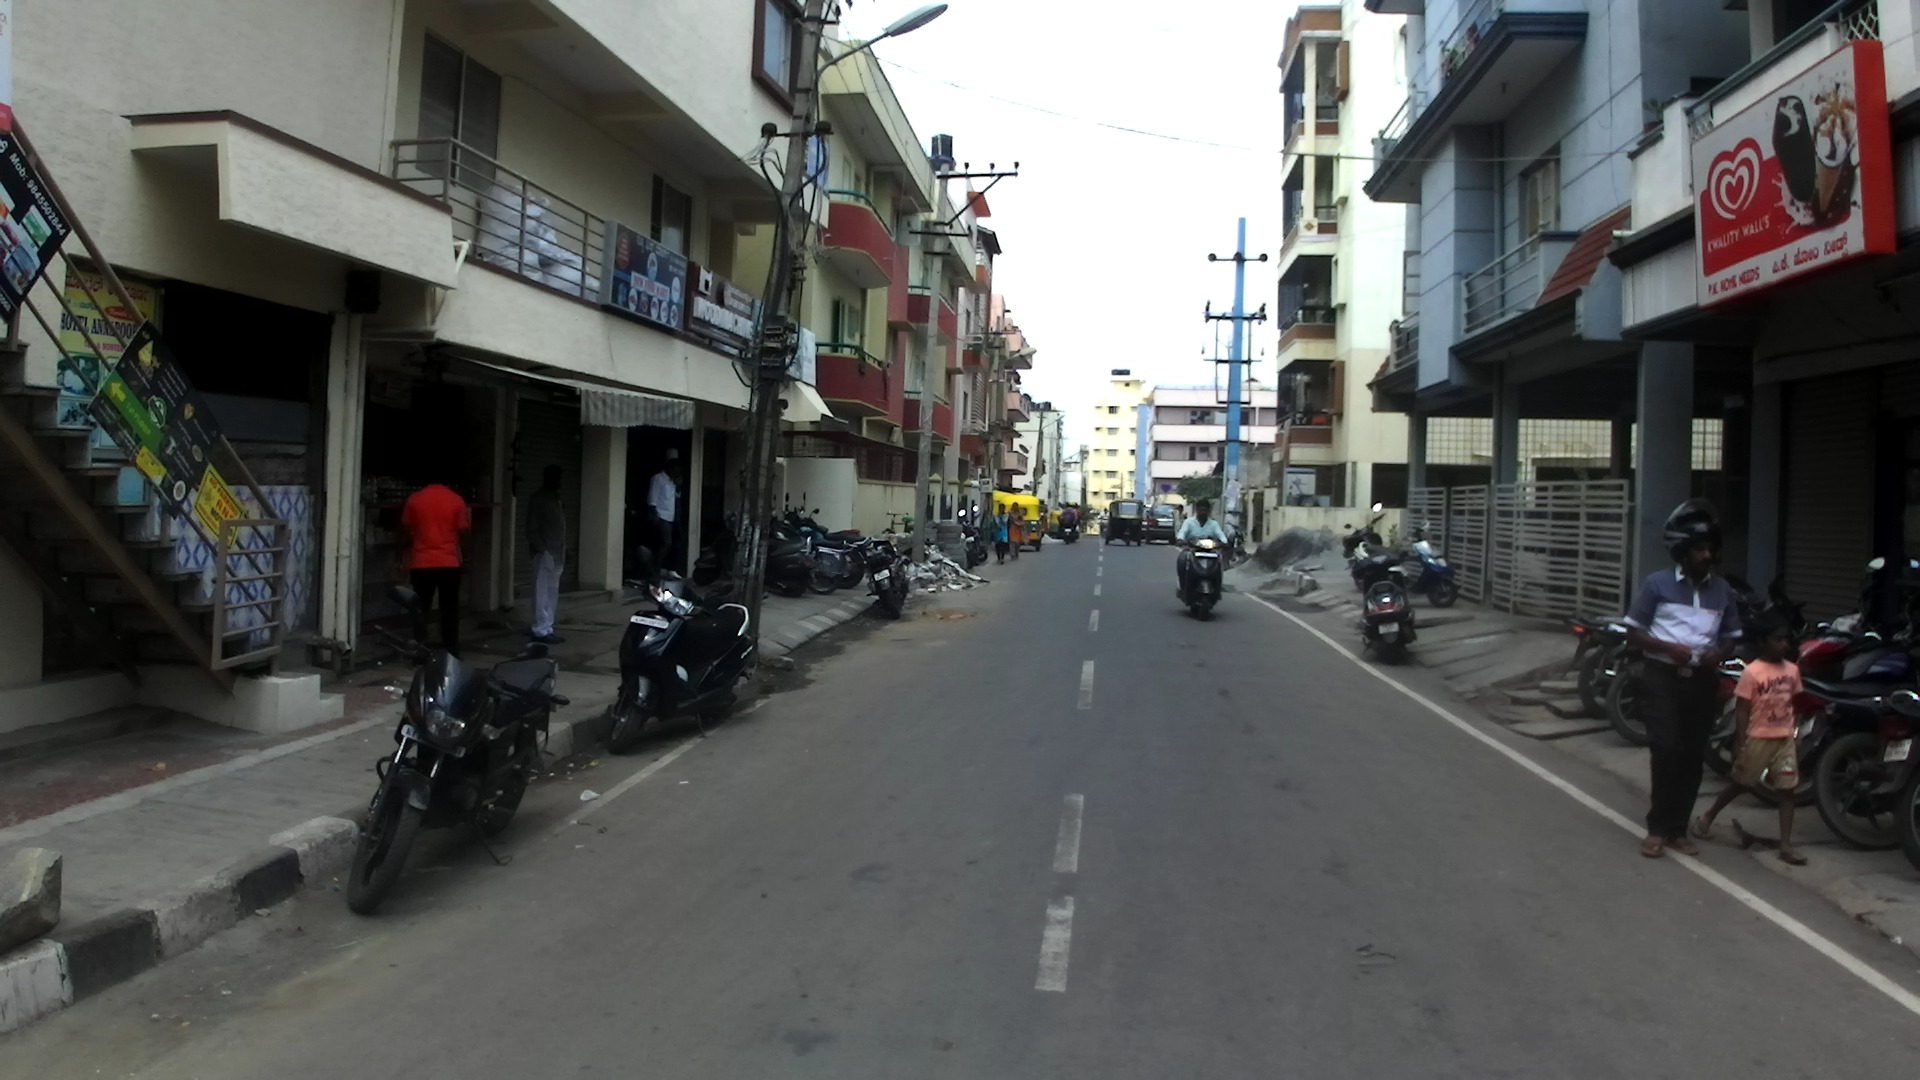autorickshaw: (999, 496, 1044, 551), (1106, 499, 1145, 545), (991, 490, 1013, 540), (1050, 510, 1066, 536)
bicycle: (882, 511, 913, 533)
car: (1143, 503, 1181, 543)
motorcycle: (341, 583, 571, 913), (1716, 562, 1920, 807), (1704, 555, 1886, 776), (1595, 570, 1813, 748), (595, 546, 759, 754), (1567, 575, 1759, 723), (1791, 677, 1920, 850), (692, 507, 811, 598), (1352, 519, 1460, 606), (767, 494, 858, 598), (1869, 687, 1918, 875), (779, 492, 868, 588), (1348, 552, 1416, 670), (796, 489, 873, 554), (1174, 537, 1227, 621), (1341, 501, 1386, 584), (866, 539, 911, 619), (796, 492, 862, 533), (956, 509, 978, 570), (1220, 520, 1247, 569), (968, 503, 989, 563), (1060, 524, 1075, 547), (1098, 515, 1110, 539), (1071, 524, 1081, 542)
person: (1626, 499, 1745, 856), (1692, 610, 1808, 861), (397, 460, 471, 662), (525, 464, 577, 644), (645, 456, 680, 586), (1008, 501, 1028, 560), (989, 502, 1009, 563), (1175, 503, 1187, 534), (1042, 509, 1050, 537)
rider: (1175, 495, 1228, 595), (1057, 502, 1078, 534), (1069, 503, 1079, 528), (1099, 507, 1110, 522), (1073, 502, 1081, 525)
